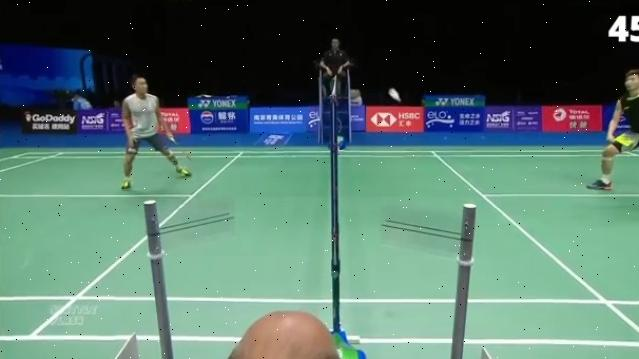Shuttlecock: (386, 84, 404, 103)
